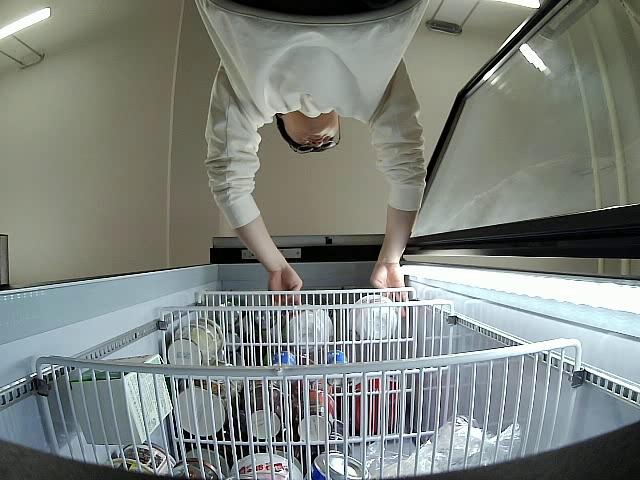00_hand: (372, 265, 410, 321), (271, 266, 305, 316)
